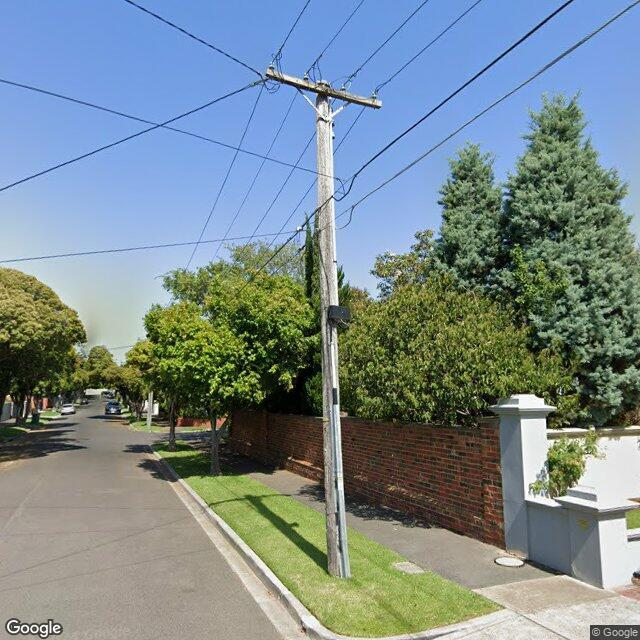crossarm: (266, 68, 382, 109)
timber-pole: (315, 81, 349, 578)
